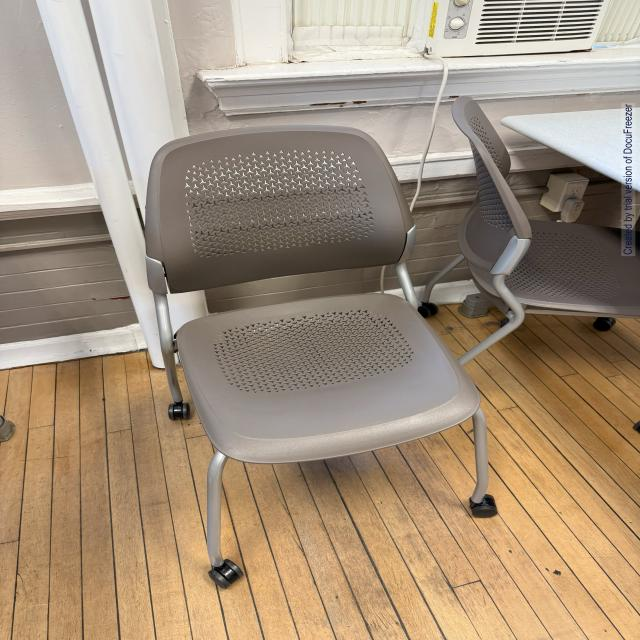chair: (120, 125, 513, 560)
